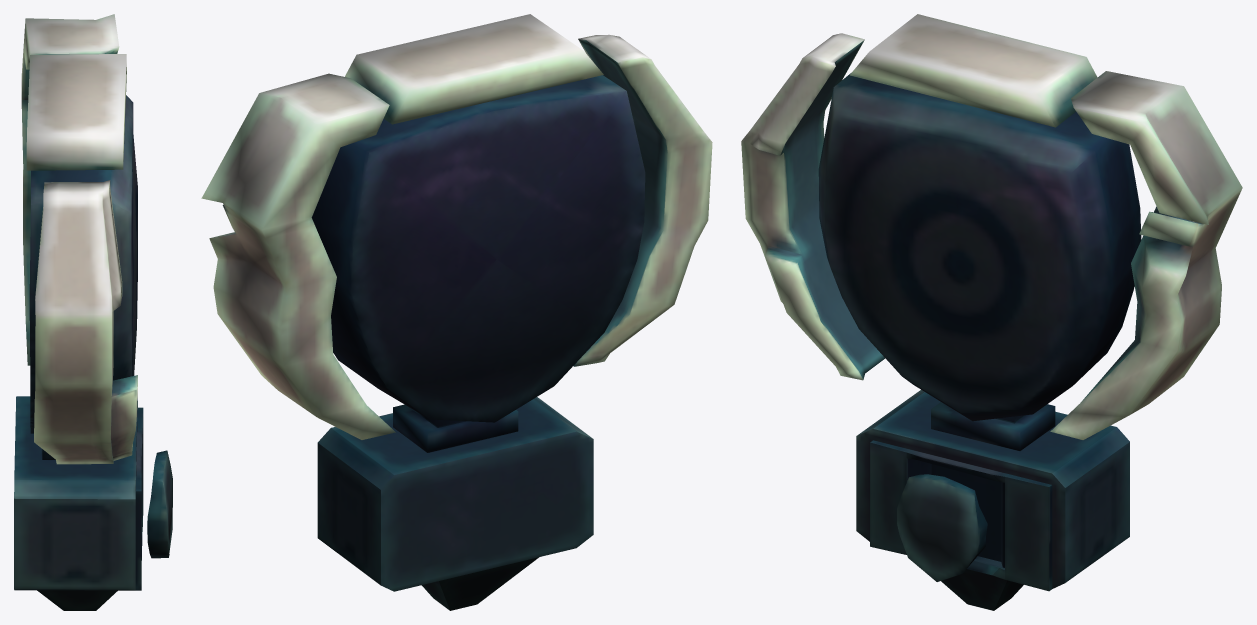
File: Geo_IconDeepScanner.fbx
3 renders of one model, left to right at view 1: azimuth 30°, elevation 25°; view 2: azimuth 150°, elevation 25°; view 3: azimuth 270°, elevation 25°, orthographic. The views are drawn at different scales.
Visible parts, largest first — view 1: DS_Piece.003_LP.001; view 2: DS_Piece.003_LP.001; view 3: DS_Piece.003_LP.001.
Part boxes in pixels (x1=…): DS_Piece.003_LP.001: x1=14, y1=14, x2=172, y2=610; DS_Piece.003_LP.001: x1=201, y1=14, x2=712, y2=610; DS_Piece.003_LP.001: x1=741, y1=14, x2=1242, y2=610.
Bounding box in the file's own units: 28.55 × 49.85 × 41.75.
